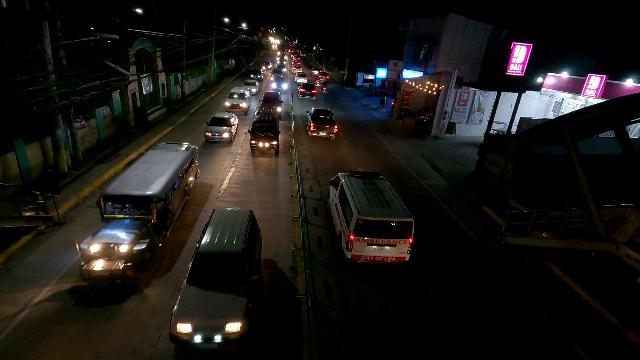car: (171, 206, 264, 351), (204, 112, 239, 143), (224, 86, 251, 116), (259, 90, 283, 114), (297, 82, 316, 100), (243, 79, 259, 95), (271, 75, 288, 90), (247, 68, 262, 81), (294, 72, 308, 84), (316, 71, 331, 82), (261, 61, 273, 71), (272, 68, 283, 78), (292, 62, 303, 71), (310, 68, 320, 76)
jeepney: (77, 142, 198, 284)
motorcycle: (322, 82, 327, 93)
pickup-truck: (305, 106, 338, 141)
van: (326, 170, 414, 268), (248, 106, 281, 153)
